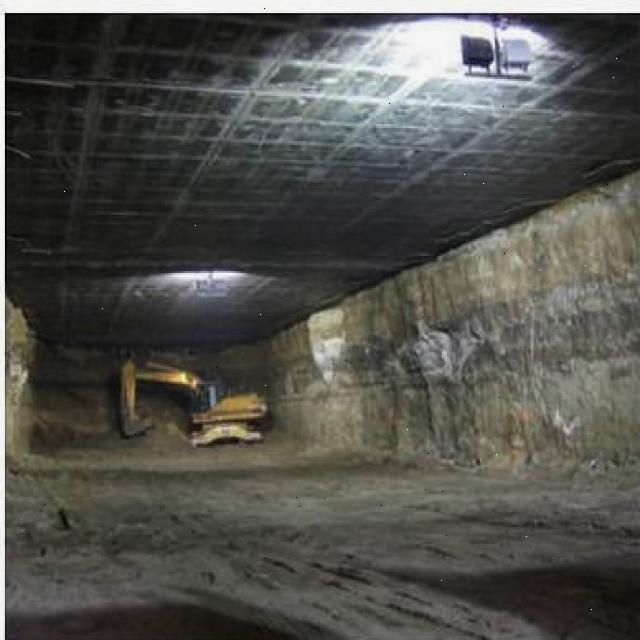Excavator: (118, 356, 270, 446)
